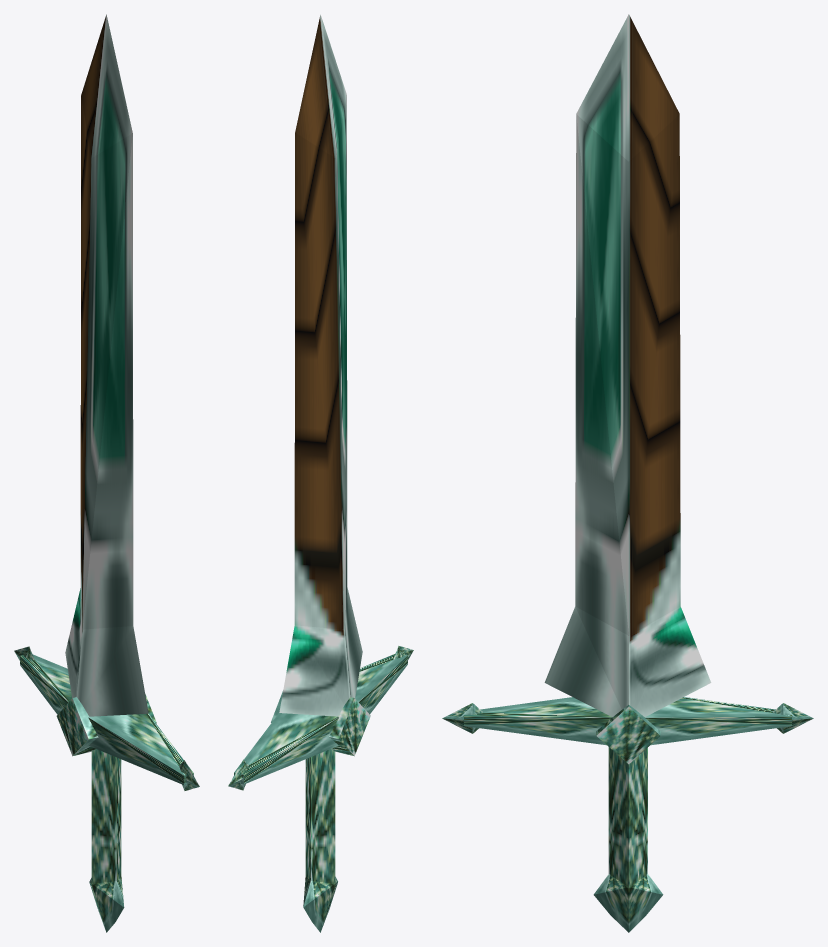
The model's file is blademaster00_4.obj.
3 renders of one model, left to right at view 1: azimuth 30°, elevation 25°; view 2: azimuth 150°, elevation 25°; view 3: azimuth 270°, elevation 25°, orthographic.
Visible parts, largest first — view 1: MDL_cw1hsw00_4; view 2: MDL_cw1hsw00_4; view 3: MDL_cw1hsw00_4.
Boxes of the visible parts, <box> form: MDL_cw1hsw00_4: <box>14,14,199,932</box>; MDL_cw1hsw00_4: <box>228,14,413,932</box>; MDL_cw1hsw00_4: <box>442,14,813,932</box>.
Size of the model in its own units: 0.1025 by 1.32 by 0.485.
